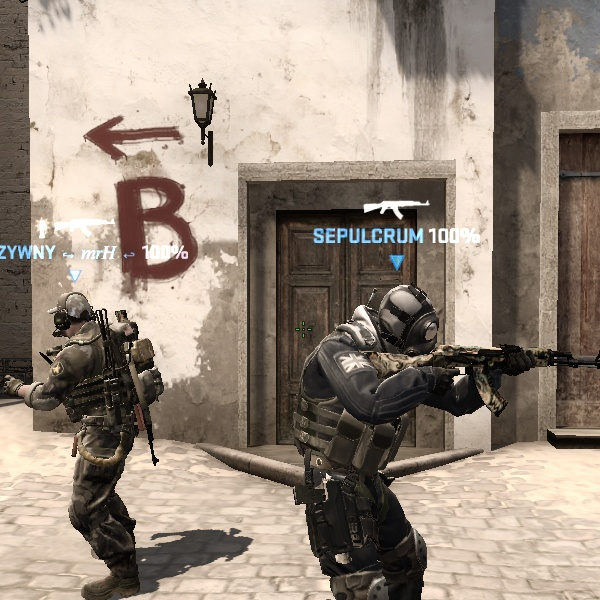ct_body: (275, 278, 495, 587), (17, 283, 189, 597)
ct_head: (364, 275, 455, 363), (42, 286, 116, 353)
